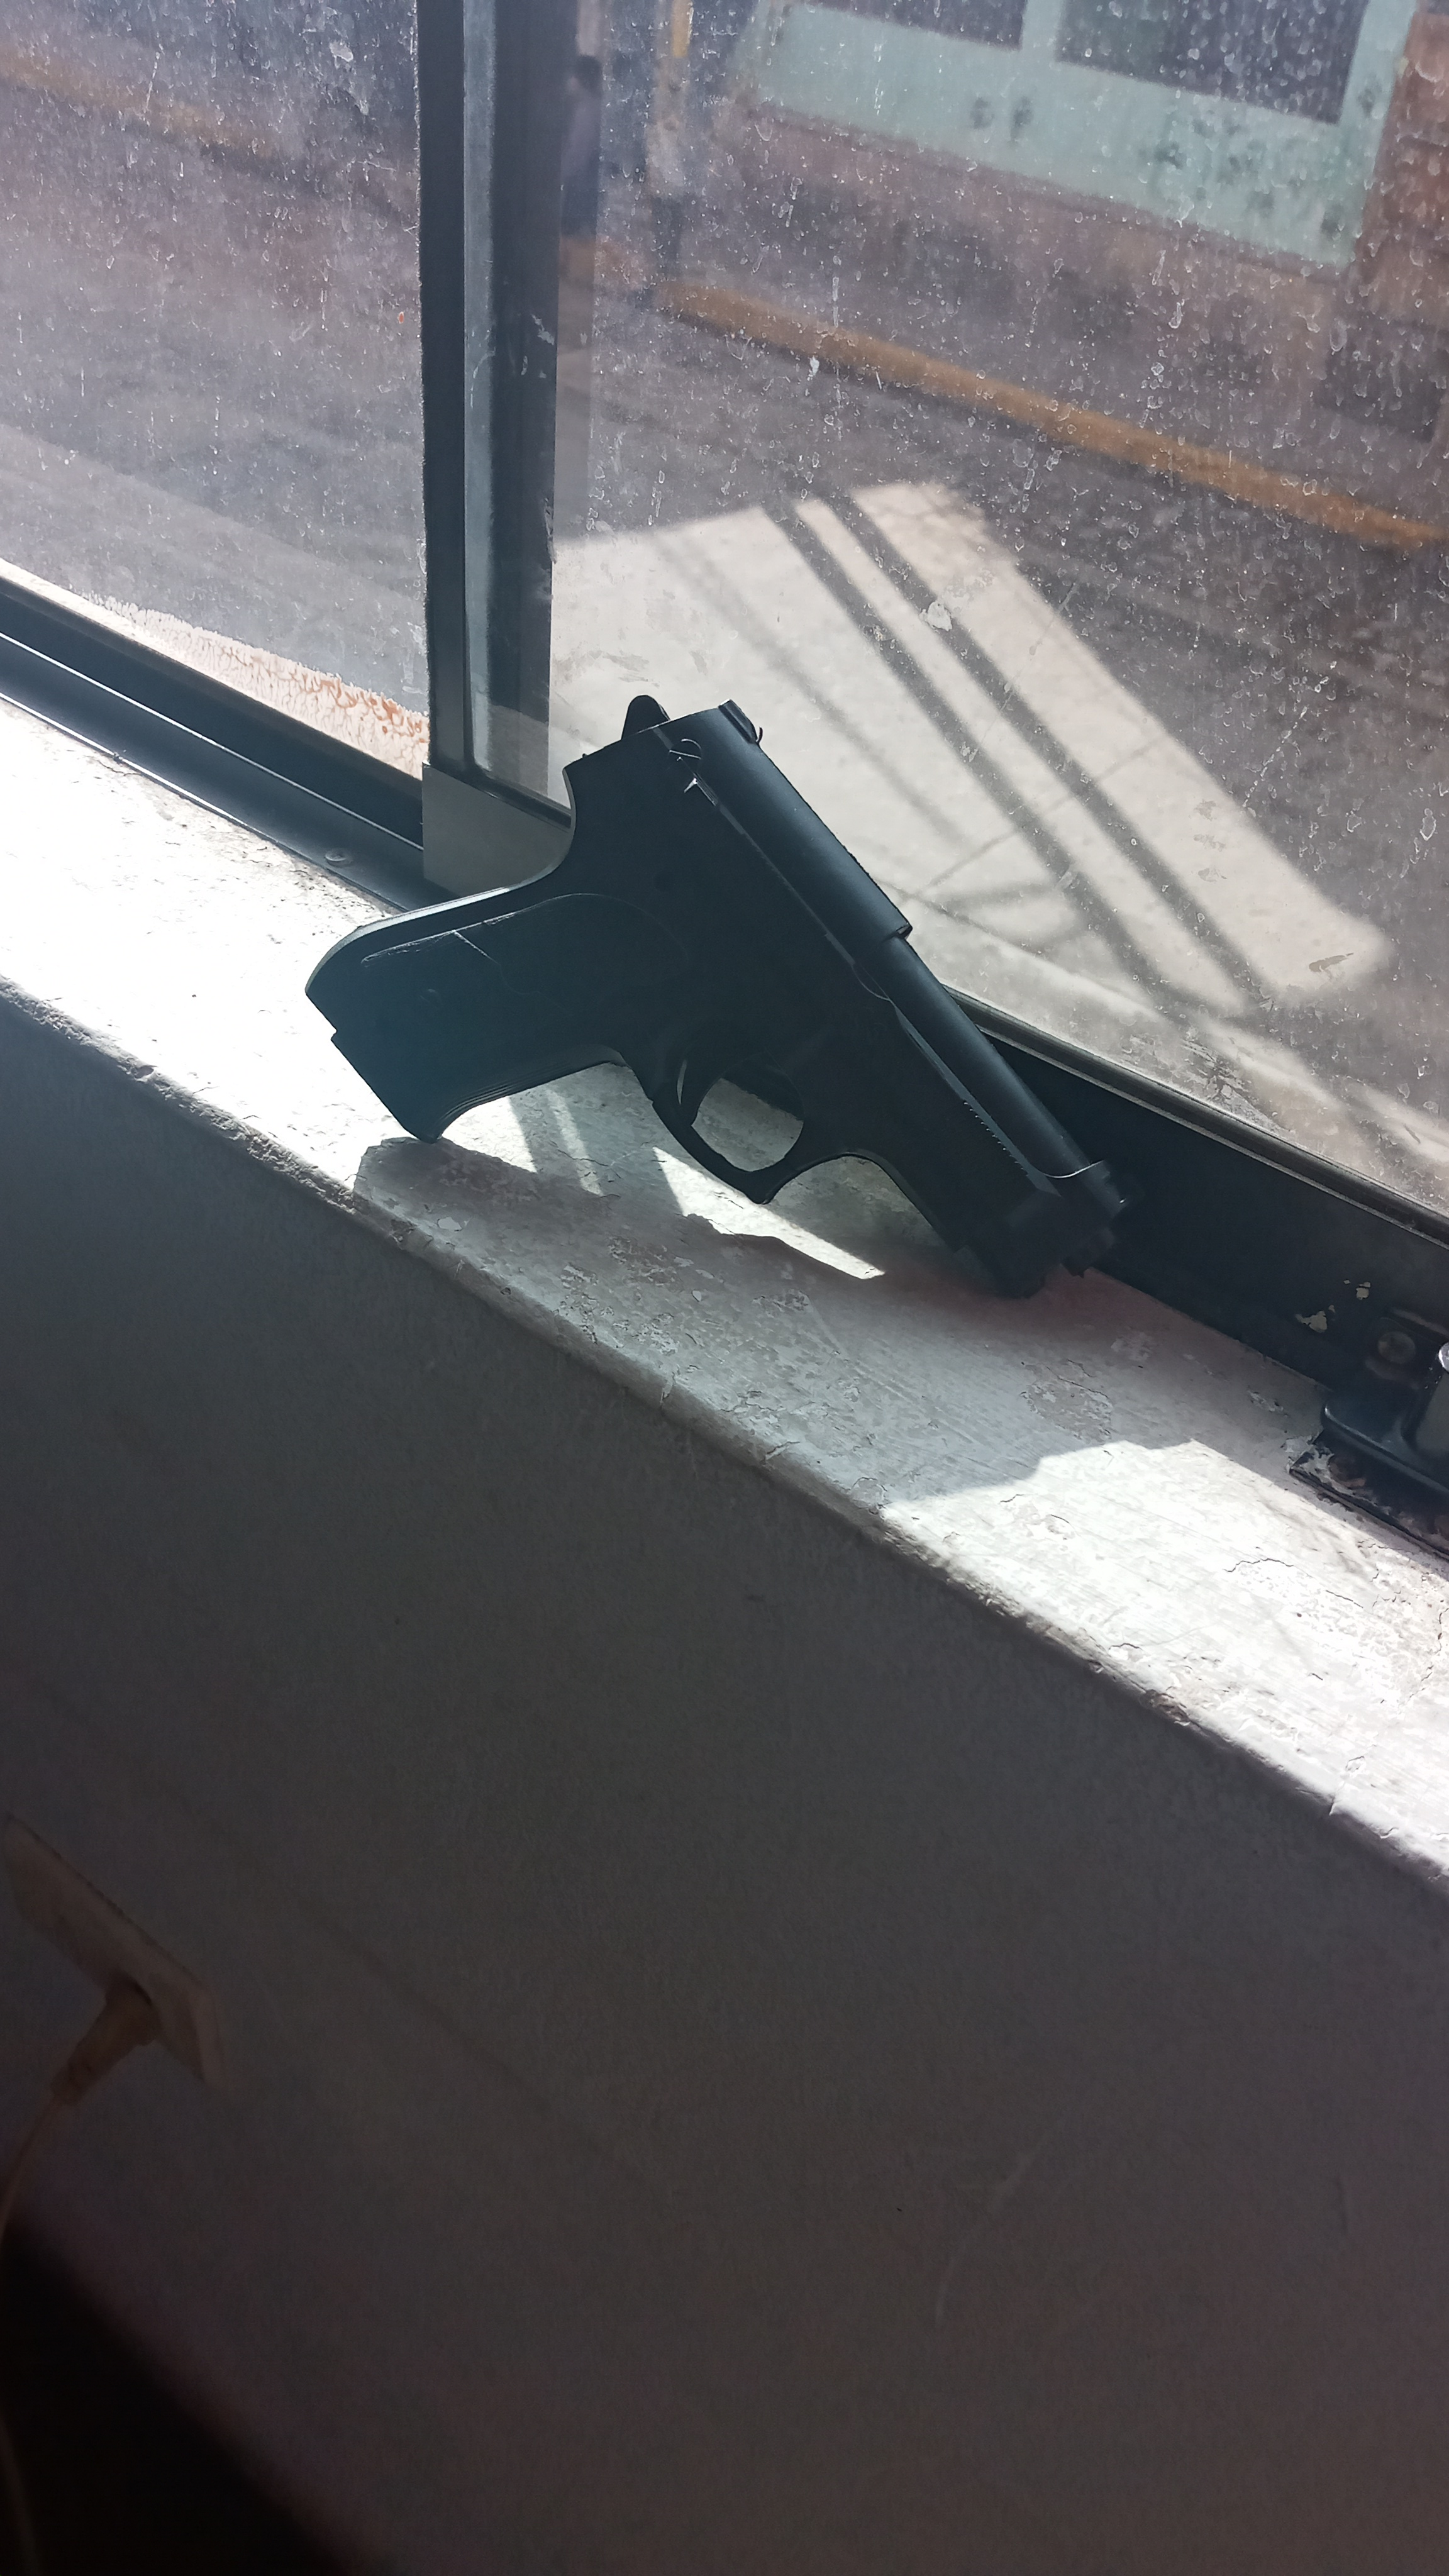Arma: (387, 718, 1104, 1295)
